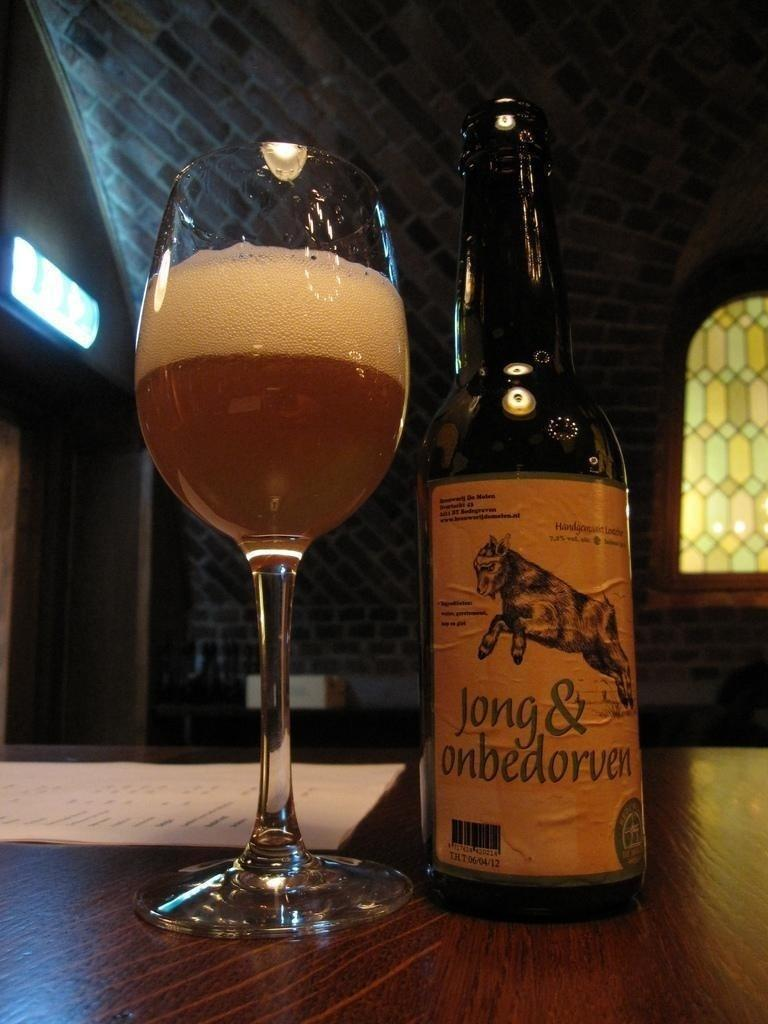bottle-glass: (400, 98, 658, 927)
glass-wine: (125, 139, 418, 949)
